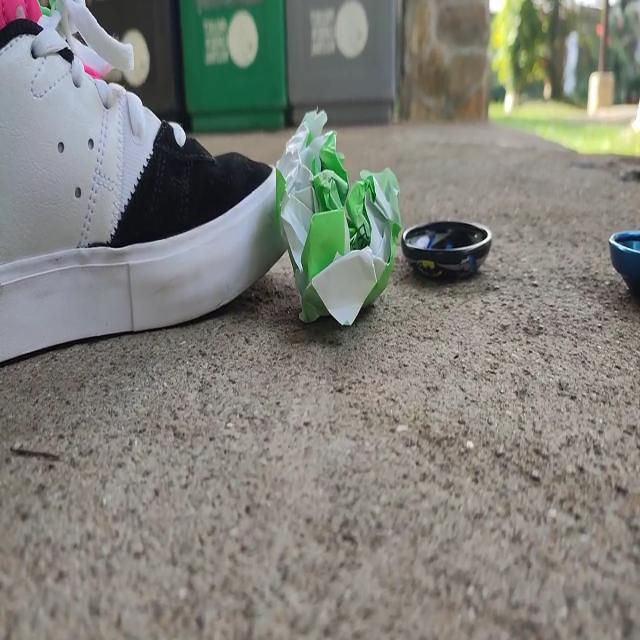paper: (266, 94, 404, 357)
